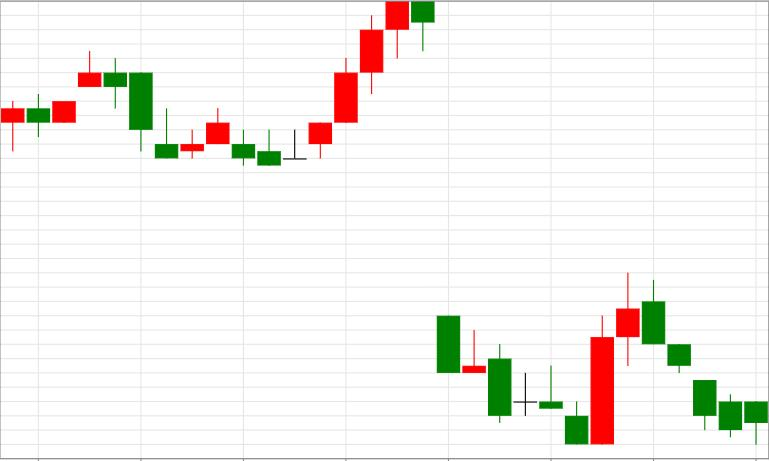bullish_engulfing_rise: (412, 2, 613, 445)
